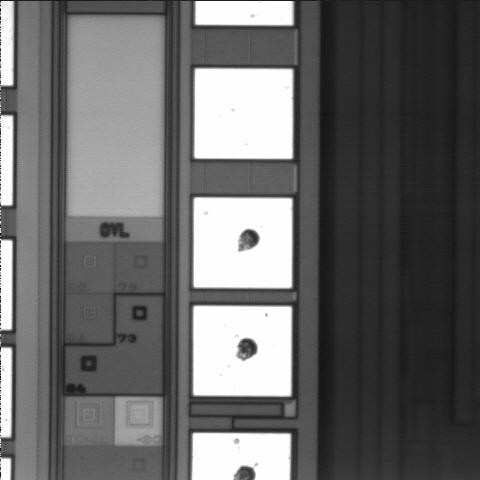pad: (194, 69, 293, 159), (194, 198, 292, 288), (193, 306, 291, 396)
